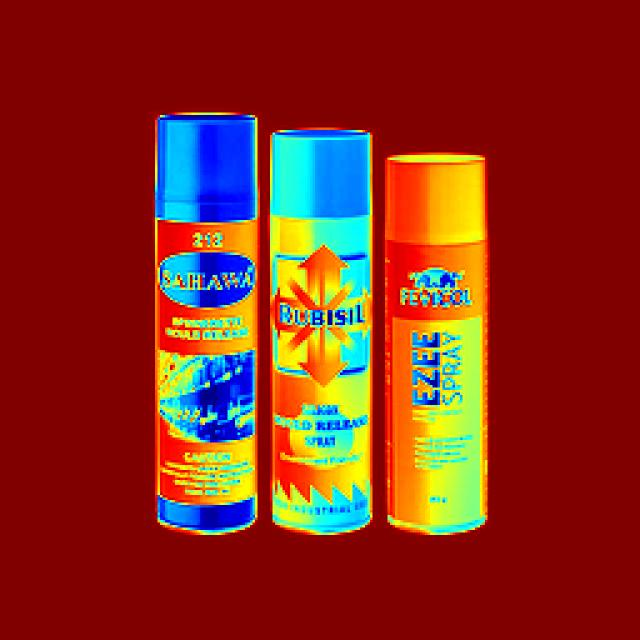Aerosol Cans: (144, 100, 258, 538), (264, 118, 378, 537), (380, 141, 494, 548)
